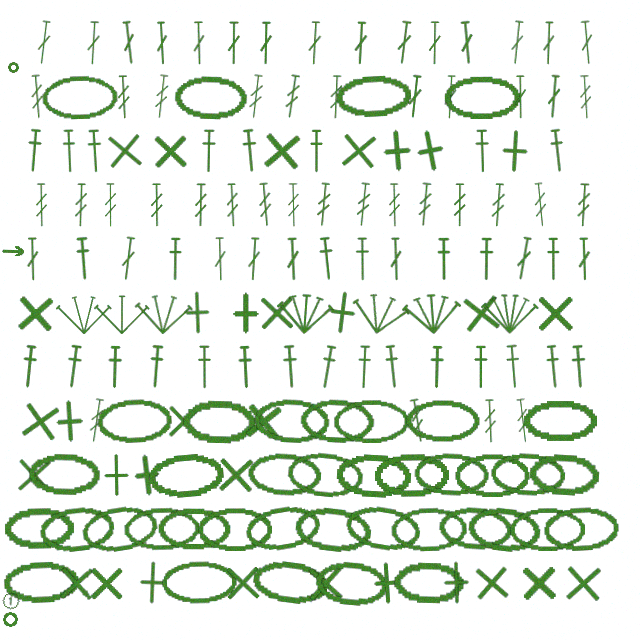chain: (79, 501, 161, 556), (242, 501, 323, 556), (342, 501, 423, 556), (249, 556, 330, 609), (292, 503, 373, 555), (285, 449, 366, 500), (37, 503, 116, 555), (465, 503, 544, 555), (146, 450, 225, 500), (313, 558, 391, 608), (334, 451, 412, 499), (437, 504, 513, 553), (542, 505, 621, 552), (334, 73, 412, 120), (253, 397, 331, 444), (299, 397, 376, 444), (489, 451, 566, 498), (2, 559, 79, 606), (527, 451, 602, 499), (41, 74, 119, 120), (96, 397, 172, 444), (246, 451, 322, 498), (413, 451, 489, 498), (123, 506, 200, 552), (390, 506, 467, 552), (173, 74, 249, 120), (161, 560, 238, 605), (181, 398, 256, 444), (373, 452, 449, 497), (392, 560, 466, 606), (443, 75, 520, 119), (454, 453, 531, 497), (27, 452, 102, 497), (333, 399, 409, 443), (405, 399, 481, 443), (509, 507, 585, 551), (522, 399, 597, 443), (157, 507, 232, 551), (197, 507, 272, 551), (3, 506, 76, 551)
double: (513, 236, 535, 281), (34, 20, 54, 65), (119, 20, 139, 65), (394, 20, 414, 65), (118, 236, 138, 281), (458, 20, 476, 65), (508, 20, 526, 65), (578, 20, 596, 65), (406, 74, 424, 119), (545, 74, 563, 119), (85, 21, 102, 65), (306, 21, 323, 65), (352, 21, 369, 65), (442, 75, 459, 119), (154, 21, 170, 65), (191, 21, 207, 65), (212, 237, 228, 281), (246, 237, 262, 281), (285, 237, 301, 281), (388, 237, 404, 281), (576, 237, 592, 281), (226, 21, 241, 65), (427, 21, 442, 65), (541, 21, 556, 65), (513, 75, 528, 119), (25, 237, 40, 281), (259, 21, 273, 65)
fan: (347, 286, 413, 340), (401, 289, 463, 337), (275, 289, 336, 337), (133, 290, 194, 336), (481, 290, 539, 335), (55, 291, 113, 335), (93, 291, 151, 335)
half_double: (316, 344, 340, 390), (63, 344, 85, 389), (547, 128, 568, 173), (316, 236, 337, 281), (19, 344, 40, 389), (382, 344, 403, 389), (24, 128, 44, 173), (240, 128, 260, 173), (73, 236, 93, 281), (146, 344, 166, 389), (503, 344, 523, 389), (543, 344, 563, 389), (569, 344, 589, 389), (281, 344, 300, 389), (85, 129, 104, 173), (236, 345, 255, 389), (60, 129, 78, 173), (473, 129, 491, 173), (106, 345, 124, 389), (355, 345, 373, 389), (428, 345, 446, 389), (200, 129, 217, 173), (308, 129, 325, 173), (354, 237, 371, 281), (435, 237, 452, 281), (478, 237, 495, 281), (196, 345, 213, 389), (472, 345, 489, 389), (167, 237, 183, 281), (545, 237, 561, 281)
noise: (0, 590, 22, 612), (0, 609, 20, 629), (1, 246, 26, 256), (7, 61, 20, 74)
single: (405, 125, 456, 176), (15, 396, 65, 446), (318, 288, 367, 337), (457, 289, 505, 337), (239, 397, 287, 445), (123, 451, 171, 499), (101, 127, 148, 174), (258, 127, 305, 174), (335, 127, 382, 174), (373, 127, 420, 174), (468, 559, 515, 606), (492, 128, 538, 174), (12, 290, 58, 336), (46, 398, 92, 444), (11, 452, 57, 498), (53, 560, 99, 606), (302, 560, 348, 606), (364, 560, 410, 606), (560, 560, 606, 606), (175, 290, 220, 335), (254, 290, 299, 335), (213, 452, 258, 497), (130, 560, 175, 605), (220, 560, 265, 605), (434, 560, 479, 605), (516, 560, 561, 605), (148, 129, 192, 173), (223, 291, 267, 335), (533, 291, 577, 335), (162, 399, 206, 443), (94, 453, 138, 497), (84, 561, 128, 605)
treble: (282, 74, 303, 119), (86, 398, 107, 443), (407, 398, 428, 443), (246, 74, 266, 119), (513, 398, 533, 443), (152, 74, 171, 119), (314, 182, 333, 227), (354, 182, 373, 227), (531, 182, 550, 227), (28, 74, 46, 119), (256, 182, 274, 227), (416, 182, 434, 227), (489, 183, 507, 227), (115, 75, 132, 119), (577, 75, 594, 119), (224, 183, 241, 227), (575, 183, 592, 227), (328, 75, 344, 119), (73, 183, 89, 227), (482, 399, 498, 443), (34, 183, 49, 227), (103, 183, 118, 227), (149, 183, 164, 227), (193, 183, 208, 227), (286, 183, 301, 227), (387, 183, 402, 227), (452, 183, 467, 227)
